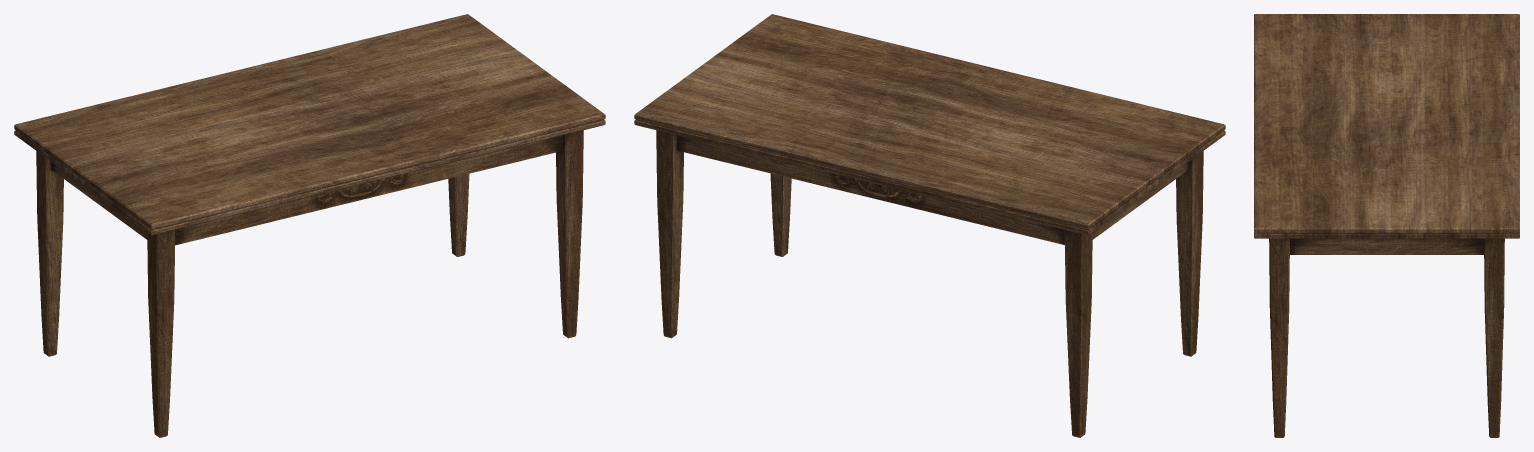
File: table_wood01_alt.dae
The picture shows the model from 3 angles, left to right: view 1: azimuth 30°, elevation 25°; view 2: azimuth 150°, elevation 25°; view 3: azimuth 270°, elevation 25°; orthographic projection. The views are drawn at different scales.
Visible parts, largest first — view 1: polySurface13; view 2: polySurface13; view 3: polySurface13.
Part boxes in pixels (bbox=[...]): polySurface13: bbox=[14, 14, 605, 437]; polySurface13: bbox=[634, 14, 1225, 437]; polySurface13: bbox=[1254, 14, 1519, 437].
Size of the model in its own units: 2.1 by 1 by 1.1.
1 material, 1 textured.
